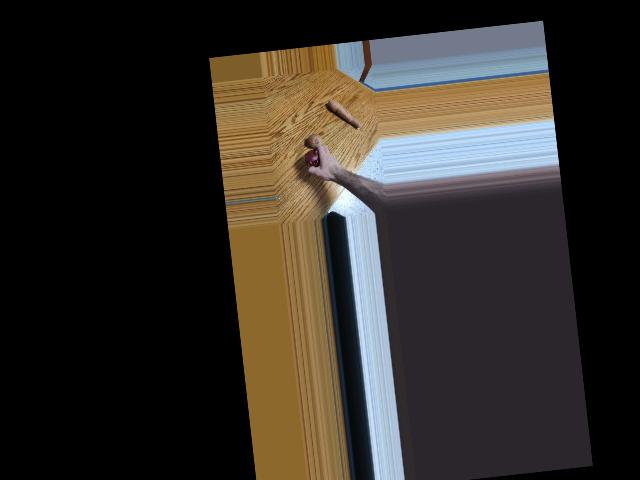onion: (306, 132, 323, 150)
